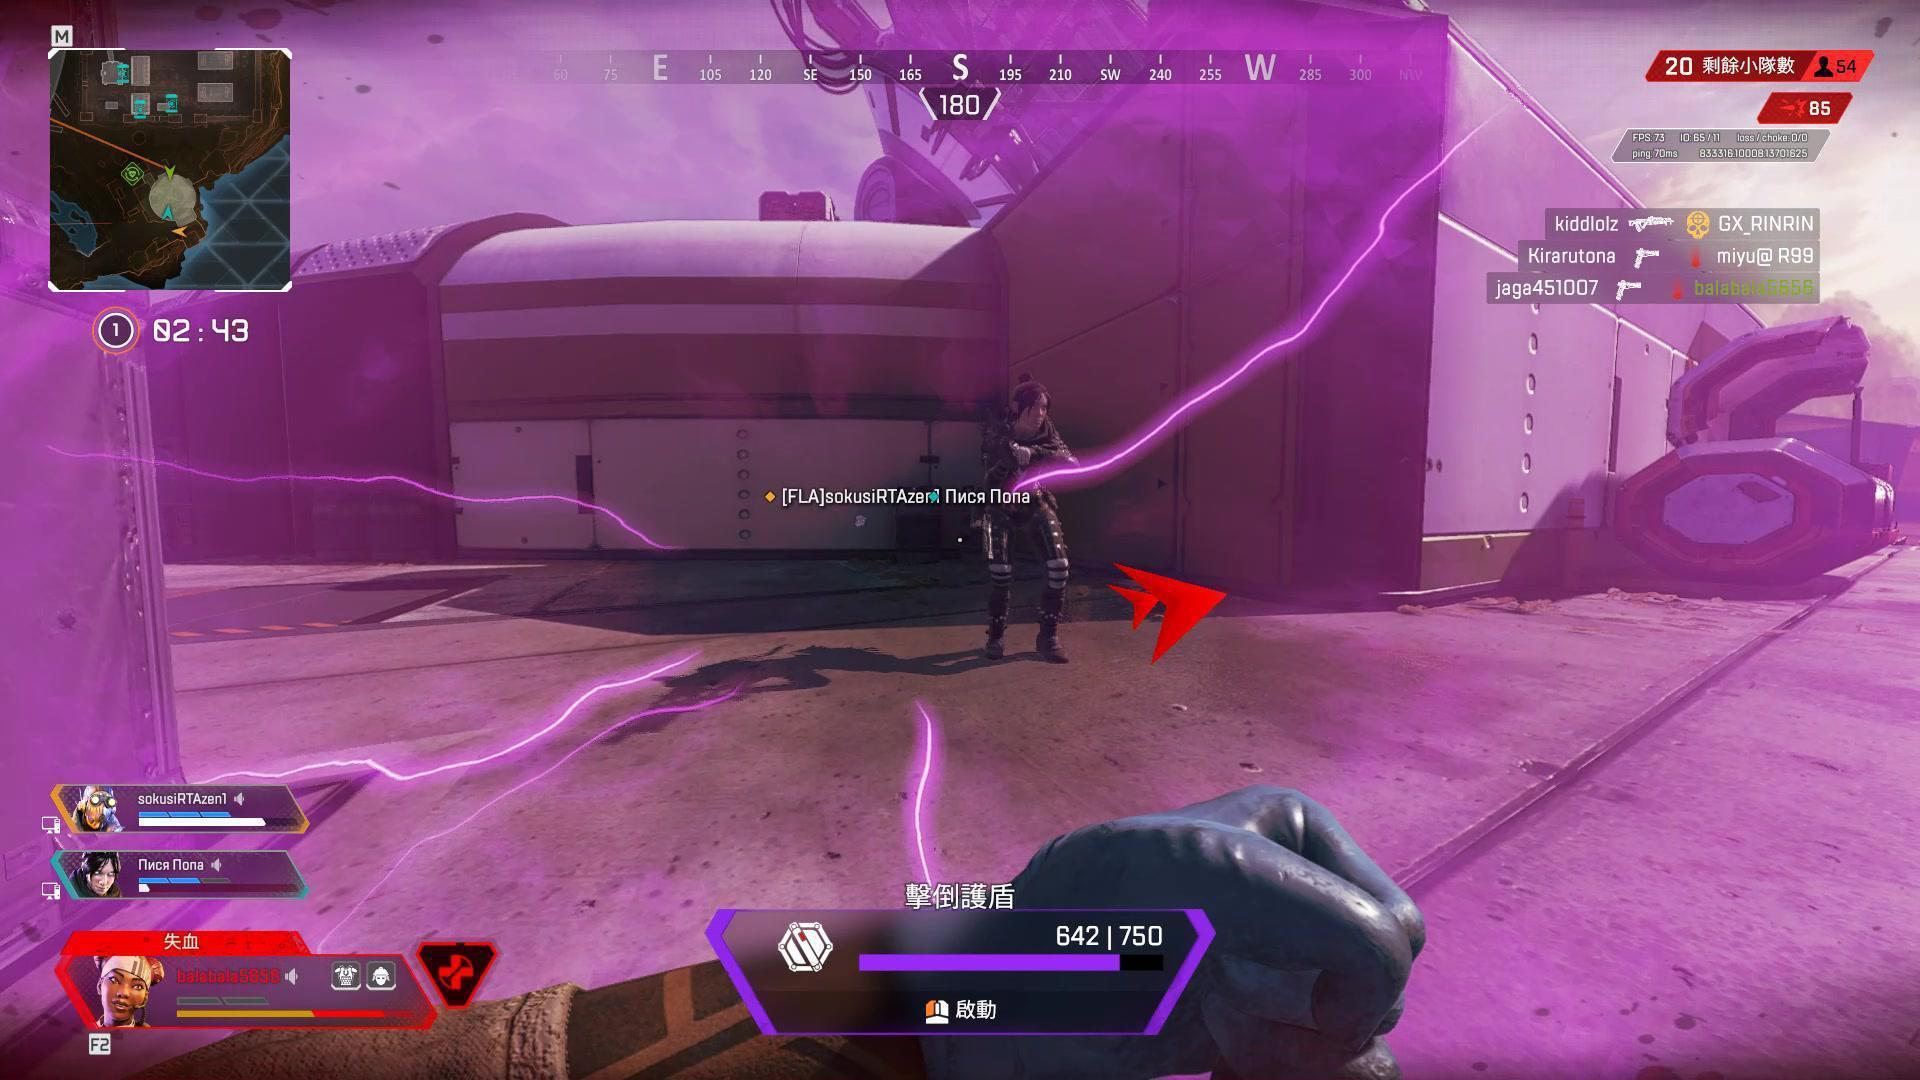avatar: (972, 370, 1076, 670)
